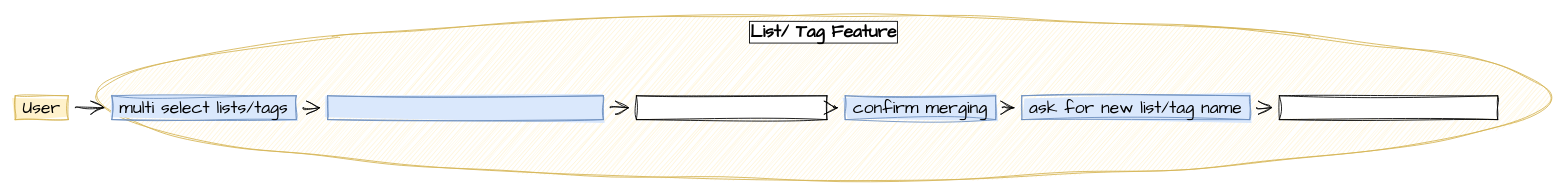
The diagram is 1566 pixels wide and 195 high, and some of its shapes have lost their labels. The shapes that lost their labels are listed below. From the top down, each one's centre as x and y in pixels, then its label:
(x=465, y=107): try to merge selected lists/tags
(x=731, y=107): ask for confirmation
(x=1388, y=107): merge selected lists/tags
